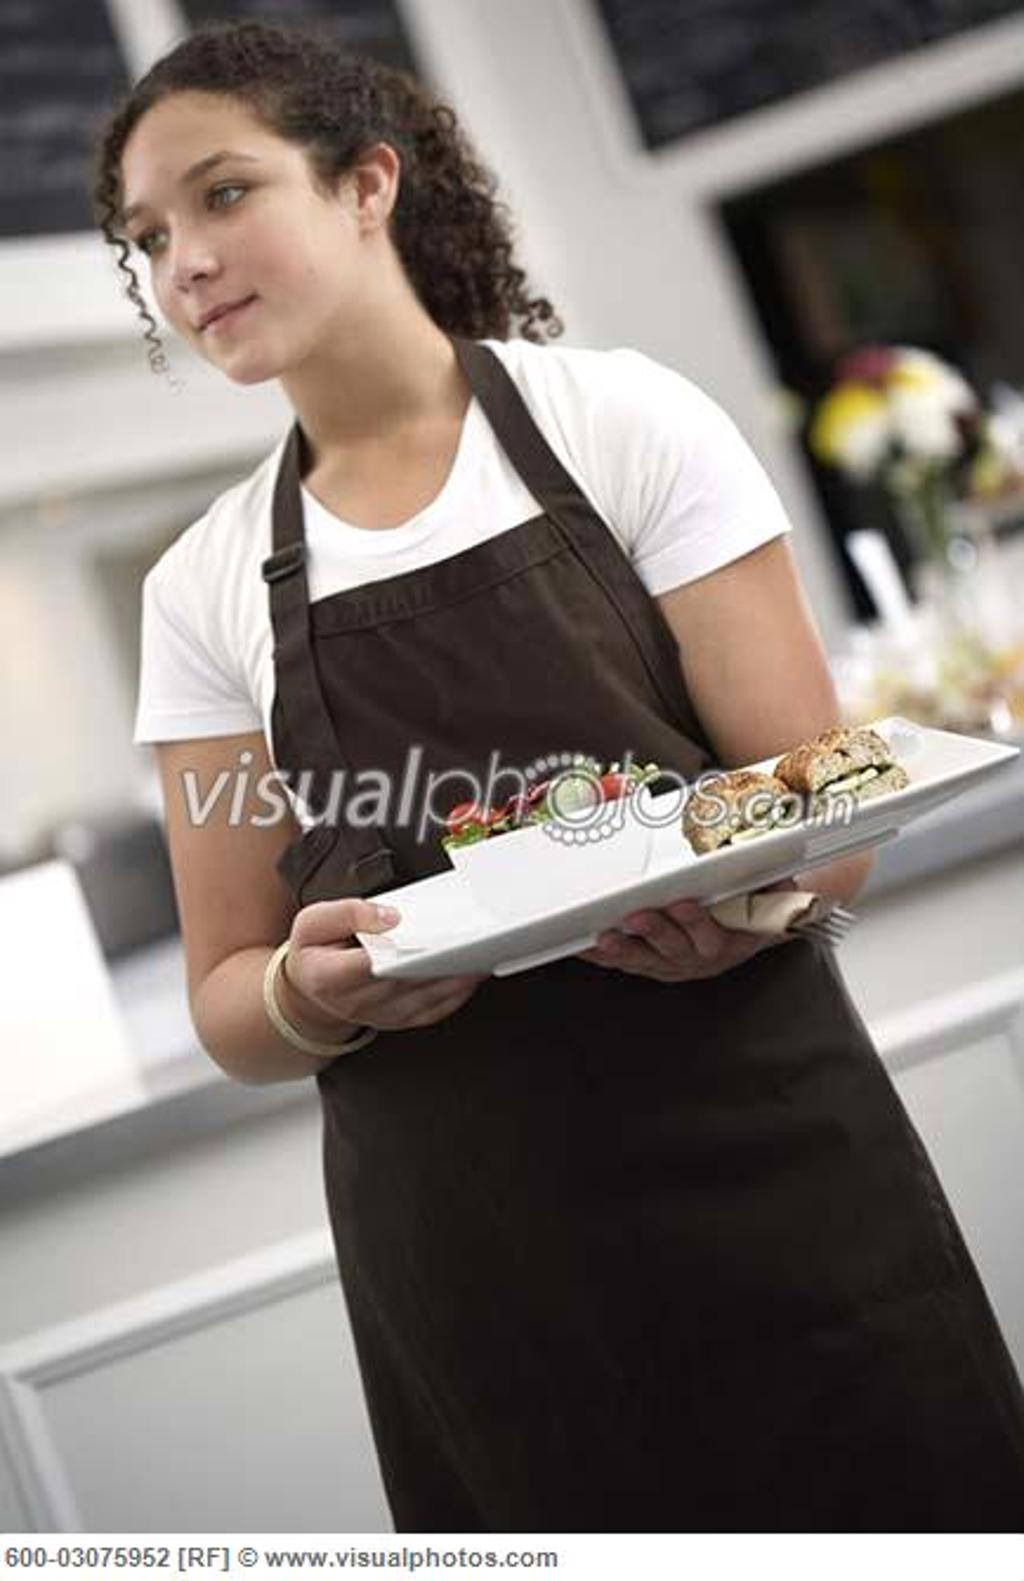face: (114, 93, 351, 371)
